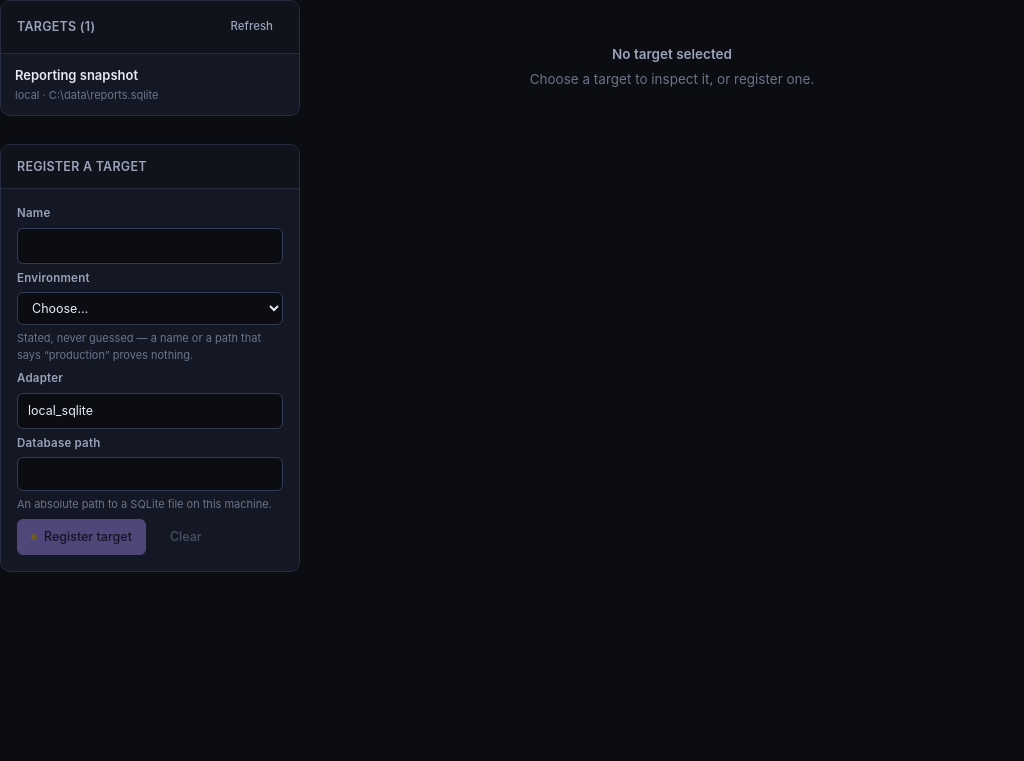
Test case: a run the backend is executing › releases the block when a manual refresh shows the run finished
The width and height of the screenshot is (1024, 761).
Click the text "Reporting snapshot" at (77, 75), box [15,67,138,83]
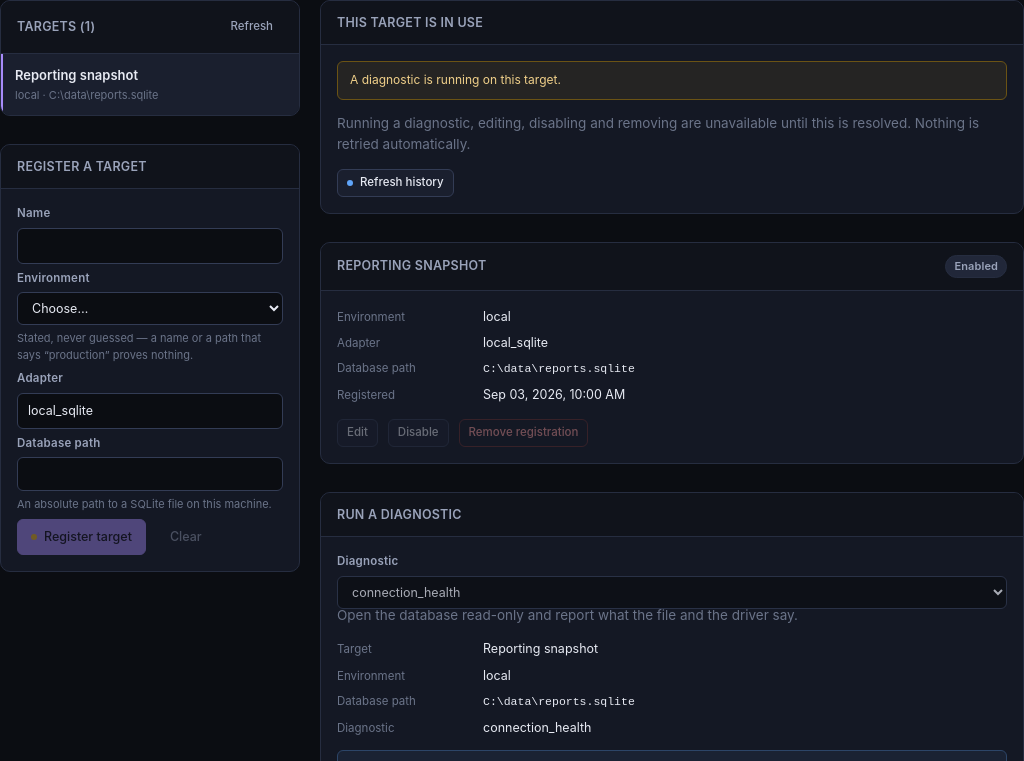
Result: the text "Run a diagnostic" is shown at [337,505,462,524]
Result: the text "This target is in use" is shown at [337,15,483,30]
Click the button "Refresh history" at (395, 183), box [337,169,454,197]
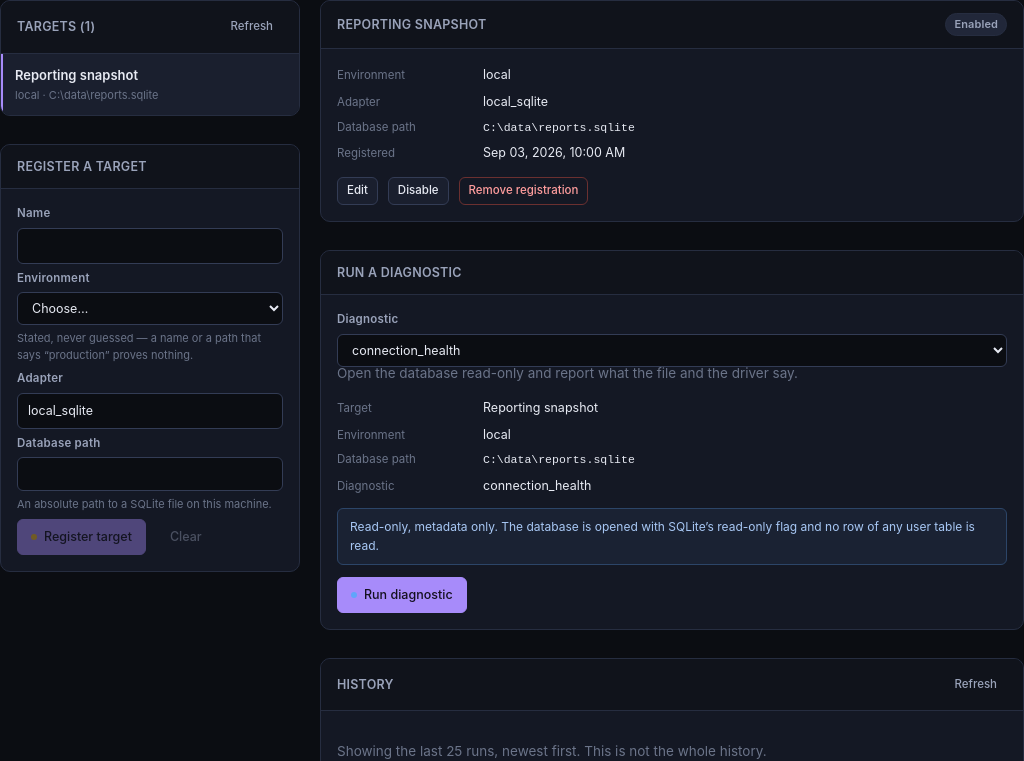
Result: the text "This target is in use" is gone
